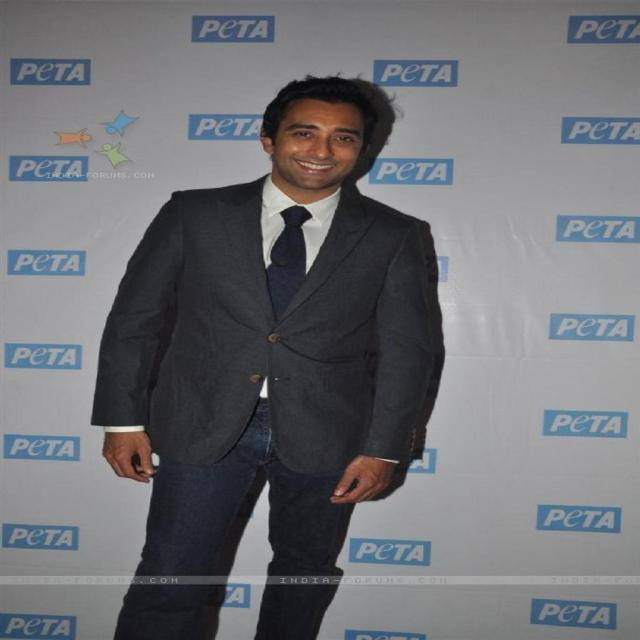Face: (264, 94, 377, 194)
